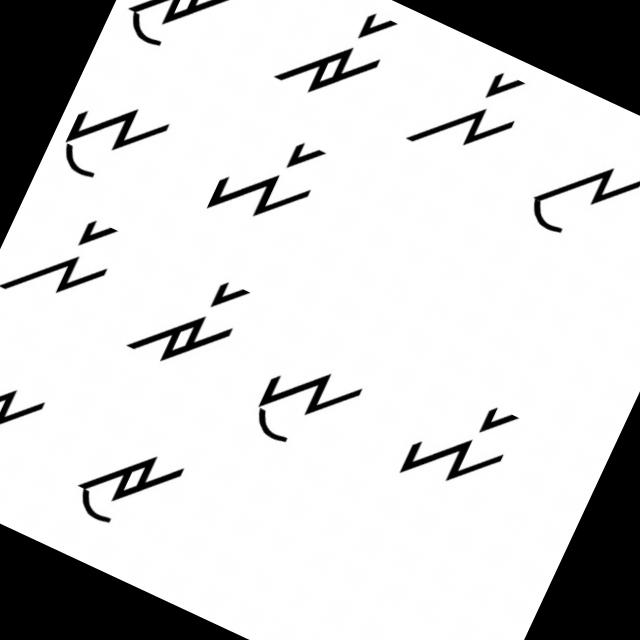lar: (403, 41, 543, 190), (0, 190, 137, 339)
law: (514, 118, 639, 267), (0, 352, 57, 492)
rar: (114, 243, 262, 402), (266, 0, 412, 125)
raw: (60, 412, 196, 554), (109, 0, 249, 83)
yar: (195, 101, 343, 252), (390, 373, 536, 519)
yaw: (50, 74, 190, 212), (240, 338, 379, 472)
